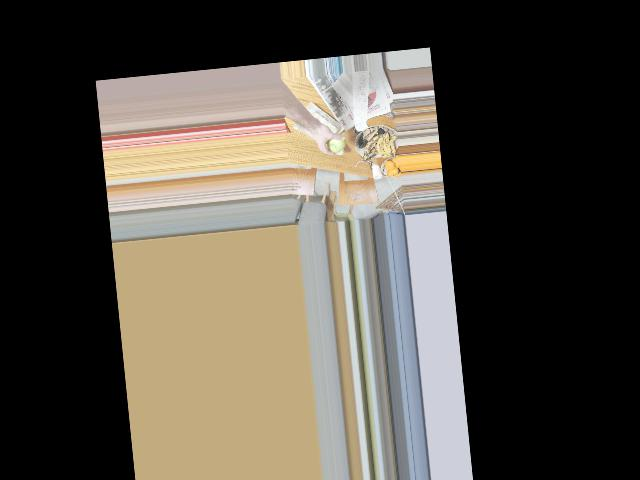apple: (324, 132, 346, 156)
